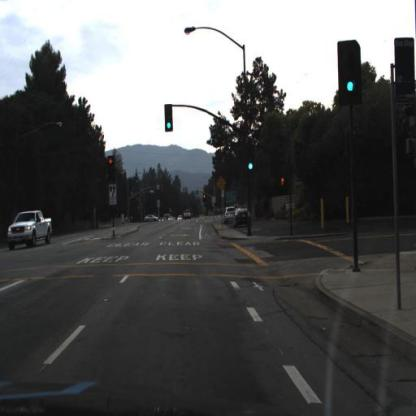car: (7, 211, 52, 251), (234, 205, 252, 230)
trafficLight: (108, 157, 116, 178)
trafficLight-Green: (340, 42, 363, 104), (165, 104, 174, 133), (247, 151, 254, 174)
